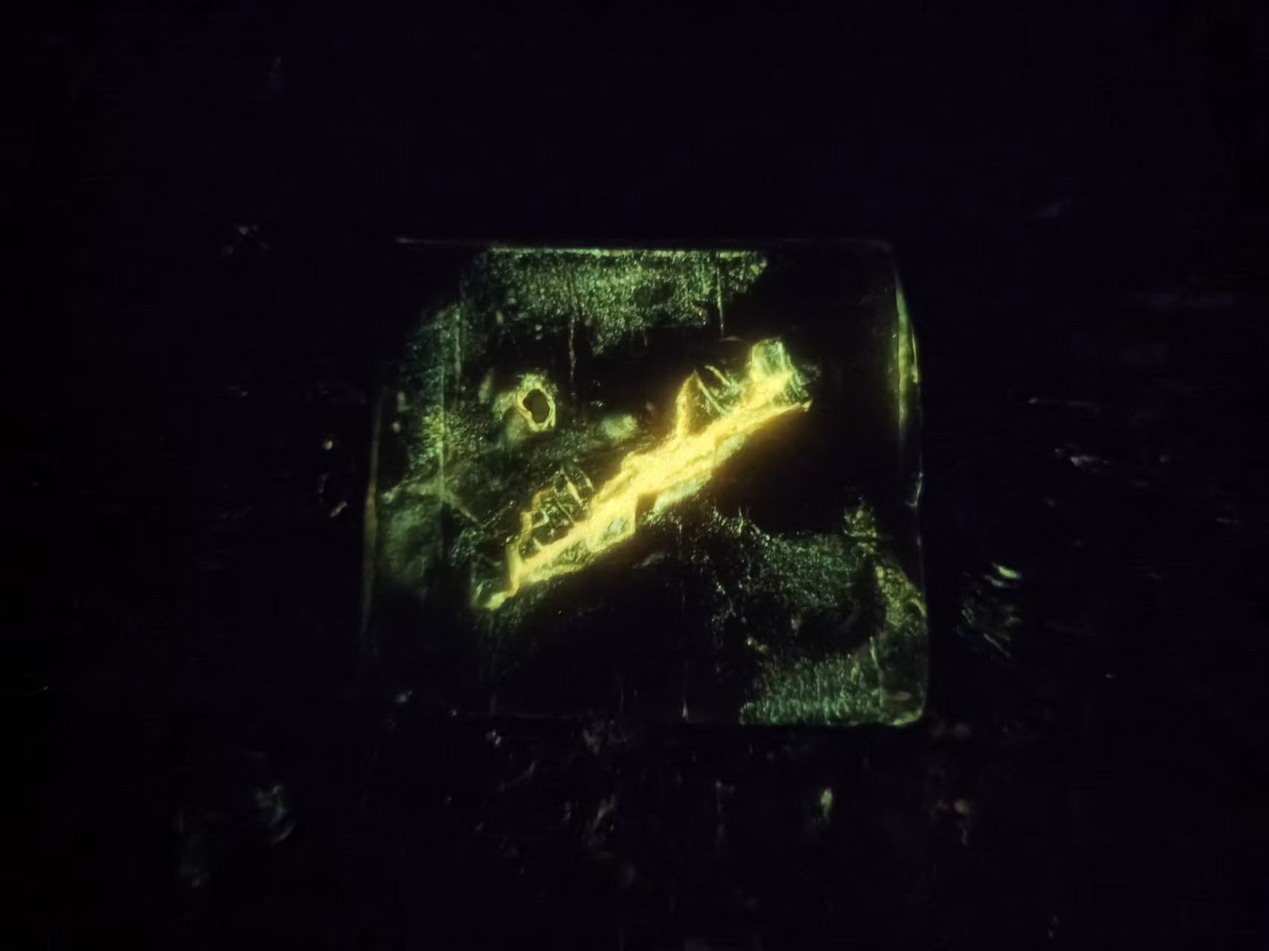Crater: (494, 364, 569, 442)
Fissure: (494, 344, 815, 600)
